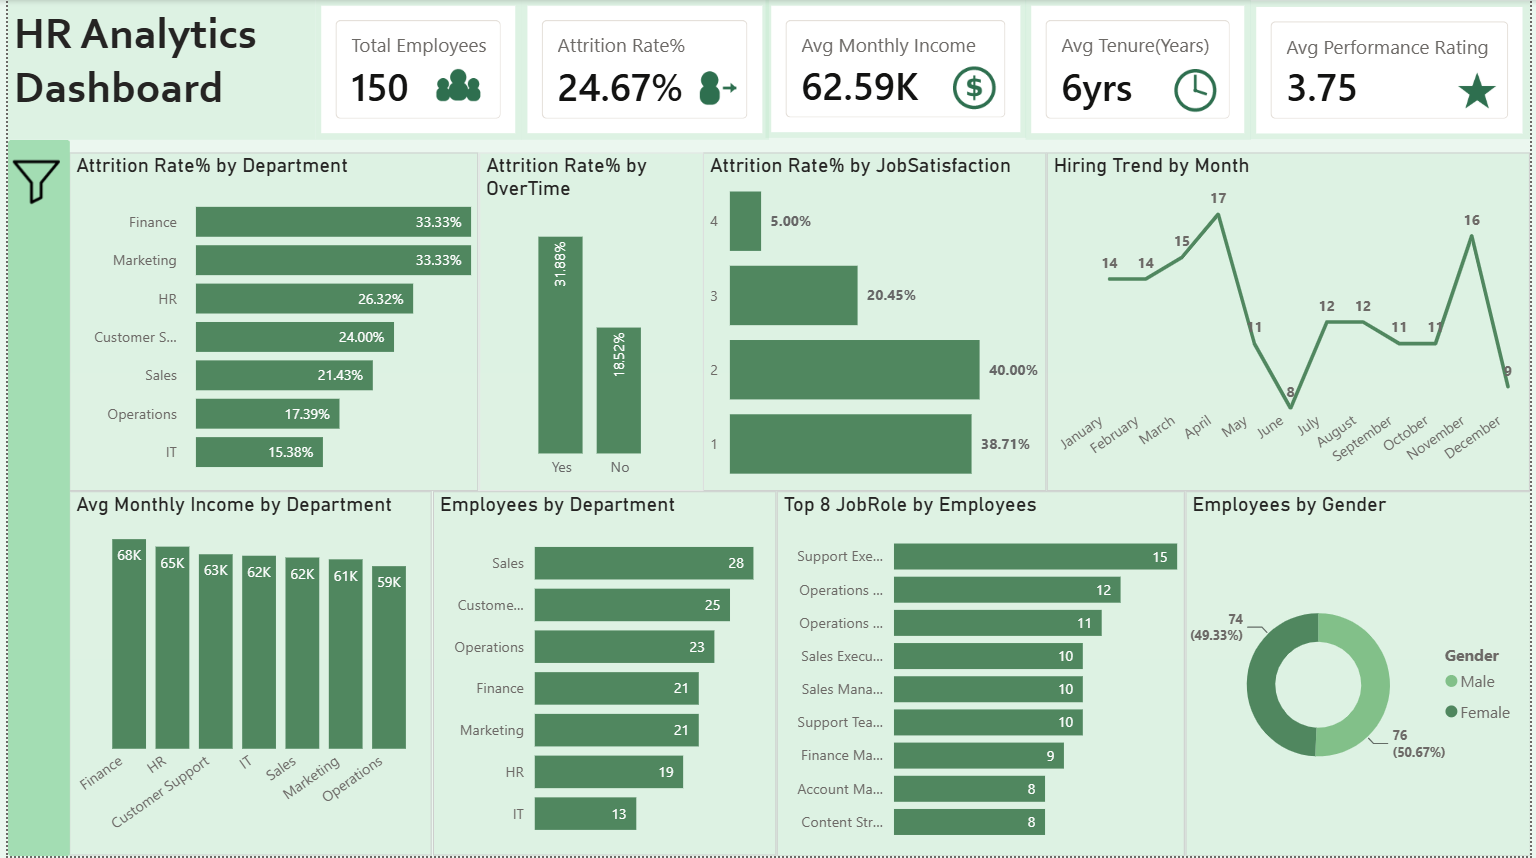

The dashboard page shown, as its layout file describes it:
{"tool":"powerbi","page":{"name":"Page 1","canvas":[1280,720],"ordinal":0},"visuals":[{"type":"cardVisual","fields":{"Data":["Measure.Net total employees"]},"box":[258.6,0,173.9,117.4],"z":0},{"type":"cardVisual","fields":{"Data":["Measure.Attrition Rate%"]},"box":[432.5,0,207.8,117.4],"z":1000},{"type":"cardVisual","fields":{"Data":["Measure.Avg Tenure(Years)"]},"box":[855.9,0,189.7,117.4],"z":2000},{"type":"cardVisual","fields":{"Data":["Measure.Avg_performance_rate"]},"box":[1045.6,1.1,234.9,116.3],"z":3000},{"type":"clusteredBarChart","fields":{"Category":["hr_analytics_dataset.Department"],"Y":["Measure.Attrition Rate%"]},"box":[51.9,128.7,344.4,284.5],"z":4000},{"type":"clusteredBarChart","fields":{"Y":["Measure.Attrition Rate%"],"Category":["hr_analytics_dataset.JobSatisfaction"]},"box":[584.9,128.7,289.1,284.5],"z":5000},{"type":"clusteredColumnChart","fields":{"Y":["Measure.Avg Monthly Income"],"Category":["hr_analytics_dataset.Department"]},"box":[51.9,413.3,304.9,306],"z":6000},{"type":"columnChart","fields":{"Category":["hr_analytics_dataset.OverTime"],"Y":["Measure.Attrition Rate%"]},"box":[396.3,128.7,188.6,284.5],"z":7000},{"type":"clusteredBarChart","title":"Top 8 JobRole by Employees","fields":{"Category":["hr_analytics_dataset.JobRole"],"Y":["Measure.Total Employees"]},"box":[647,413.3,343.3,307.1],"z":8000},{"type":"textbox","box":[0,0,258.6,117.4],"z":9000},{"type":"cardVisual","fields":{"Data":["Measure.Avg salary"]},"box":[636.8,0,219.1,116.3],"z":10000},{"type":"shape","box":[0,117.4,52.3,602.3],"z":11000},{"type":"actionButton","box":[0,129.1,52.3,47.7],"z":12000},{"type":"donutChart","title":"Employees by Gender","fields":{"Category":["hr_analytics_dataset.Gender"],"Y":["Measure.Total Employees"]},"box":[990.3,413.3,290.2,307.1],"z":13000},{"type":"clusteredBarChart","title":"Employees by Department","fields":{"Y":["Measure.Total Employees"],"Category":["hr_analytics_dataset.Department"]},"box":[357.9,413.3,289.1,306],"z":14000},{"type":"image","box":[345.5,49.7,65.5,48.6],"z":16000},{"type":"image","box":[568,49.7,54.2,48.6],"z":17000},{"type":"image","box":[787,49.7,50.8,48.6],"z":18000},{"type":"image","box":[971.1,51.9,54.2,48.6],"z":19000},{"type":"image","box":[1213.8,56.5,45.2,41.8],"z":20000},{"type":"lineChart","title":"Hiring Trend by Month","fields":{"Y":["Measure.Total Employees"],"Category":["hr_analytics_dataset.HireDate.Variation.Date Hierarchy.Year","hr_analytics_dataset.HireDate.Variation.Date Hierarchy.Month"]},"box":[874,128.7,406.5,284.5],"z":21000}]}

Visuals, with their boxes in screenshot pixels (x1, y1, x2, y2), scaled from the page's 1280x720 canvas onto the 1536x858 screenshot:
cardVisual - Measure.Net total employees: <box>310,0,519,140</box>
cardVisual - Measure.Attrition Rate%: <box>519,0,768,140</box>
cardVisual - Measure.Avg Tenure(Years): <box>1027,0,1255,140</box>
cardVisual - Measure.Avg_performance_rate: <box>1255,1,1535,140</box>
clusteredBarChart - hr_analytics_dataset.Department x Measure.Attrition Rate%: <box>62,153,476,492</box>
clusteredBarChart - Measure.Attrition Rate% x hr_analytics_dataset.JobSatisfaction: <box>702,153,1049,492</box>
clusteredColumnChart - Measure.Avg Monthly Income x hr_analytics_dataset.Department: <box>62,493,428,857</box>
columnChart - hr_analytics_dataset.OverTime x Measure.Attrition Rate%: <box>476,153,702,492</box>
"Top 8 JobRole by Employees" clusteredBarChart: <box>776,493,1188,857</box>
textbox: <box>0,0,310,140</box>
cardVisual - Measure.Avg salary: <box>764,0,1027,139</box>
shape: <box>0,140,63,857</box>
actionButton: <box>0,154,63,211</box>
"Employees by Gender" donutChart: <box>1188,493,1535,857</box>
"Employees by Department" clusteredBarChart: <box>429,493,776,857</box>
image: <box>415,59,493,117</box>
image: <box>682,59,747,117</box>
image: <box>944,59,1005,117</box>
image: <box>1165,62,1230,120</box>
image: <box>1457,67,1511,117</box>
"Hiring Trend by Month" lineChart: <box>1049,153,1535,492</box>
